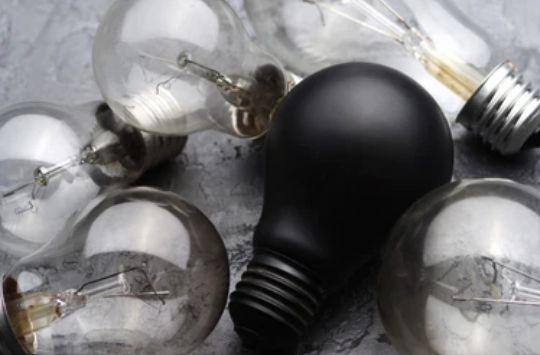light bulb: (235, 59, 458, 344), (239, 0, 540, 161), (0, 182, 233, 355), (0, 85, 192, 263), (87, 0, 314, 143), (372, 171, 540, 355)
